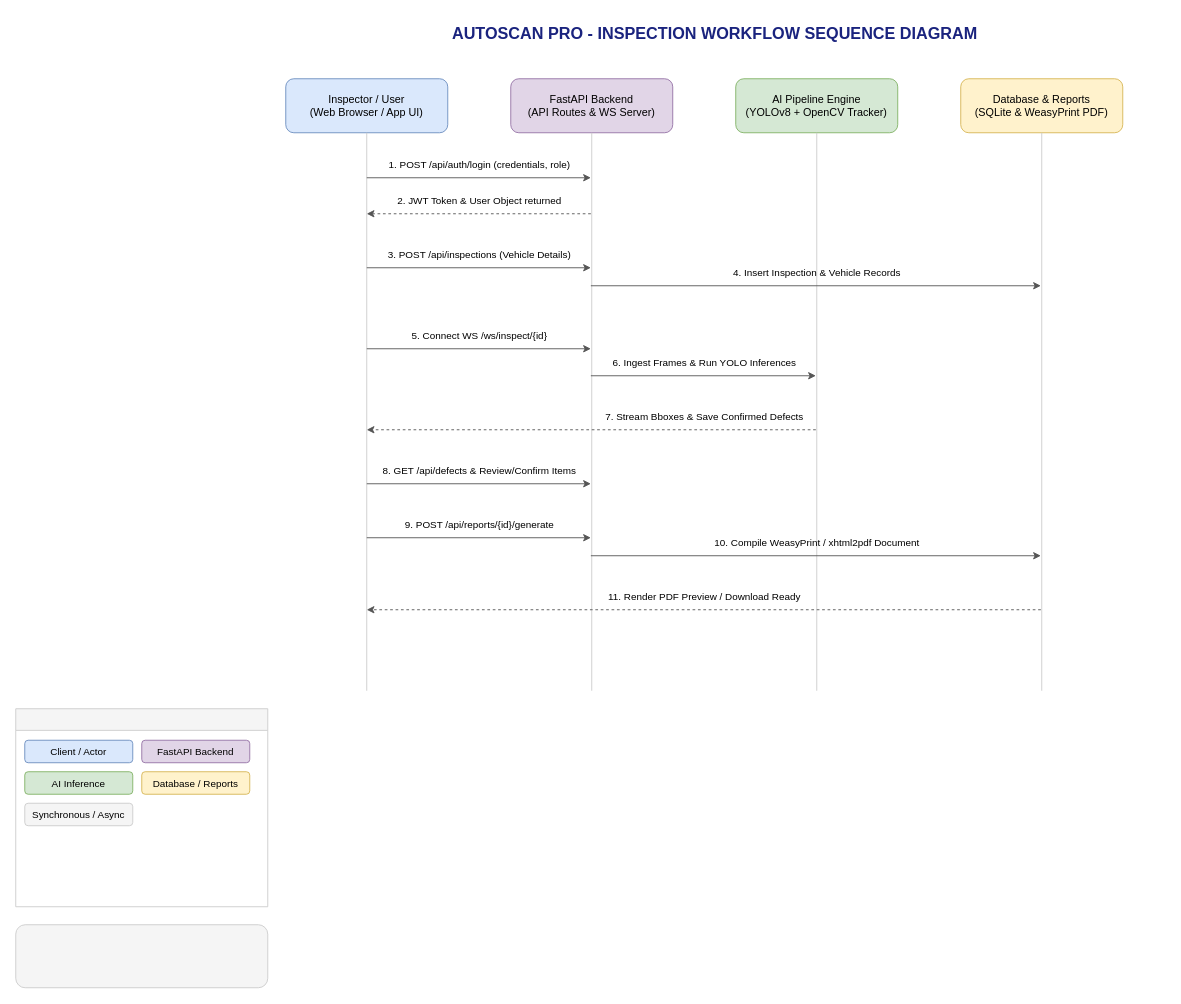
The diagram is 1181 pixels wide and 1004 high, and some of its shapes have lost their labels. Here are the shapes that lost their labels. From the top down, the box of each, then its label:
(15, 708, 268, 907): LEGEND
(15, 924, 268, 988): Scope: Inspection Workflow Sequence Author: Antigravity Agent Date: 2026-08-01
